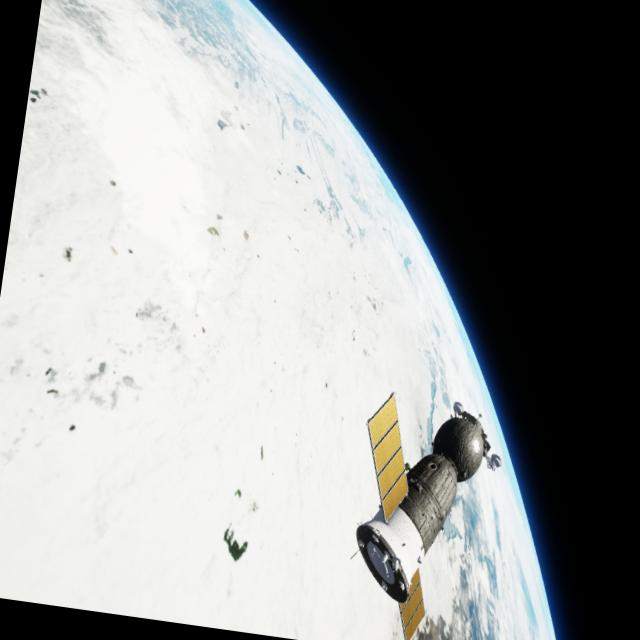Satellites revolving around earth: (0, 0, 640, 640), (340, 386, 500, 616)
